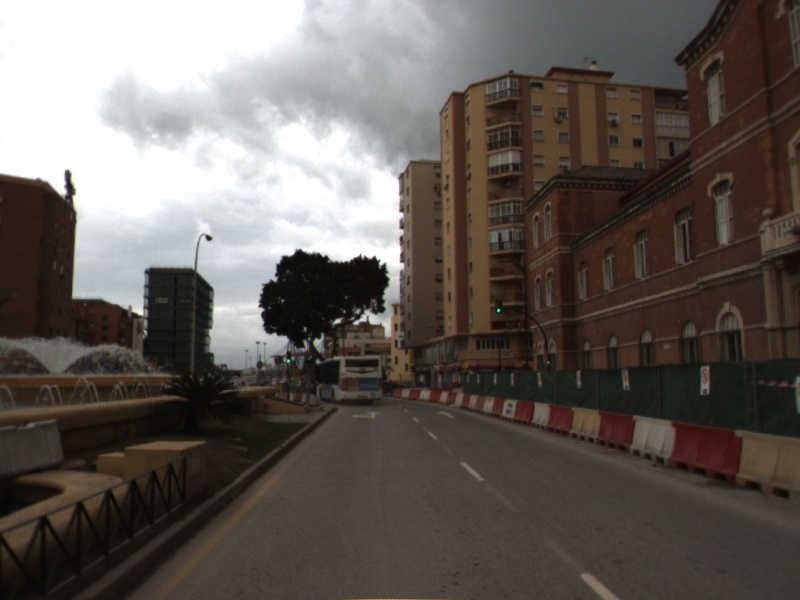STRAIGHT: (435, 408, 458, 421)
STRAIGHT_LEFT: (349, 409, 382, 421)
